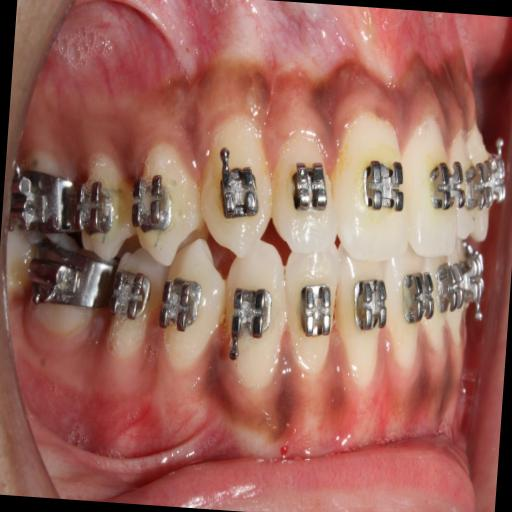correct_brace: (152, 234, 228, 372), (127, 145, 203, 270), (156, 269, 206, 338), (358, 154, 409, 220), (215, 158, 264, 222), (228, 278, 274, 346), (296, 274, 338, 340), (289, 160, 331, 214), (426, 160, 464, 217)
incorrect_brace: (268, 126, 345, 264), (276, 243, 342, 386), (130, 172, 175, 226)
